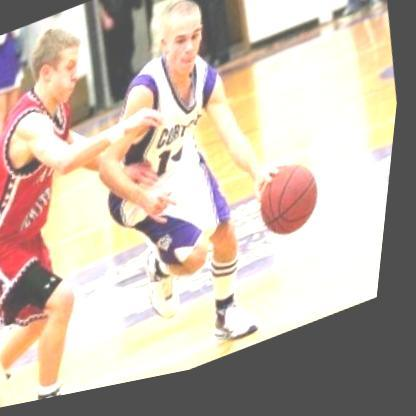basketball: (248, 158, 337, 263)
